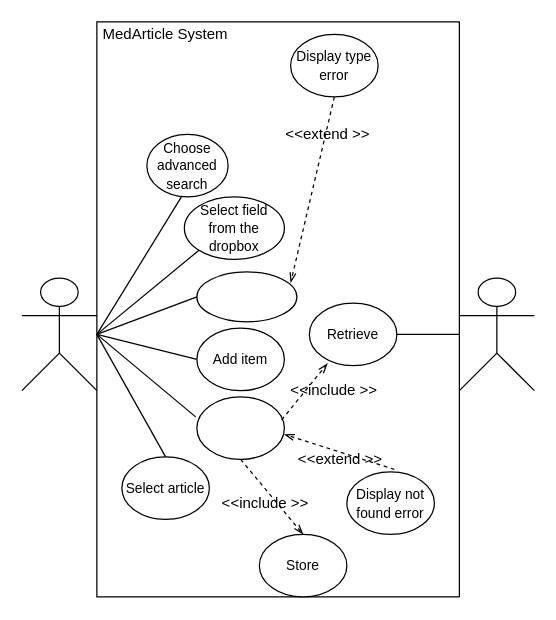
This 556x620 diagram has some shape labels left out. Each missing label, with the centre of its shape:
"Click search" goes at point (240, 427).
"Entrez" goes at point (496, 334).
"Fill search box" goes at point (246, 296).
"User" goes at point (59, 334).
